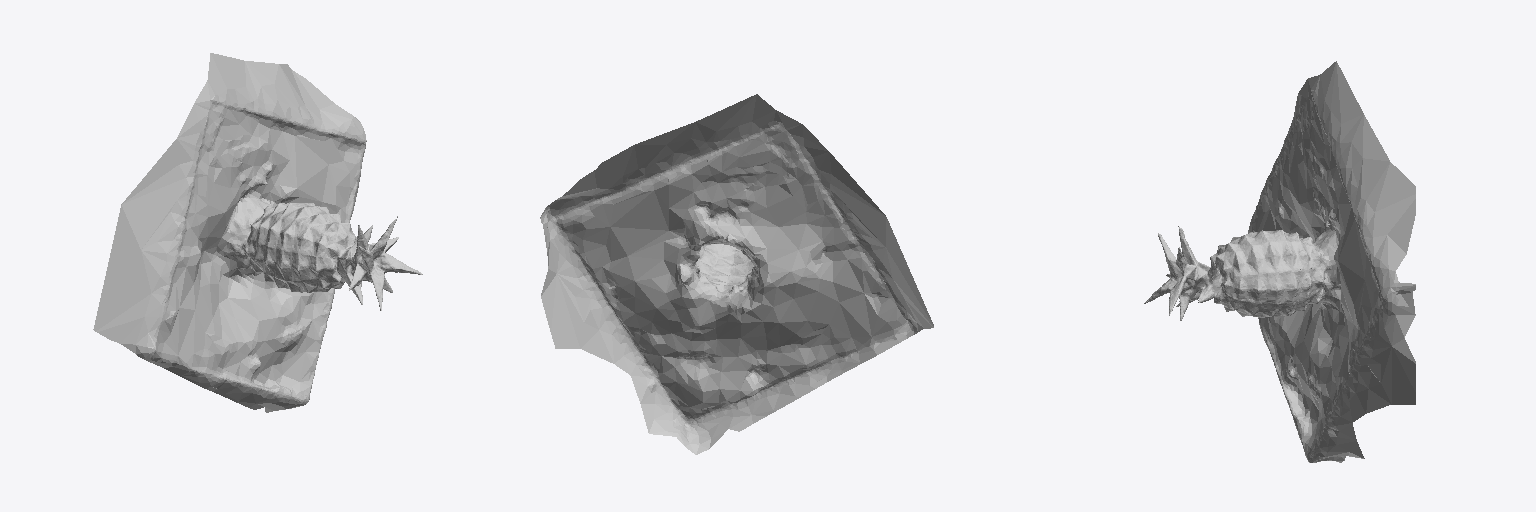
Rendered from pineapple.obj.
3 renders of one model, left to right at view 1: azimuth 30°, elevation 25°; view 2: azimuth 150°, elevation 25°; view 3: azimuth 270°, elevation 25°, orthographic.
Parts seen in each view (by area): view 1: pineapple; view 2: pineapple; view 3: pineapple.
Boxes of the visible parts, <box> form: pineapple: <box>93,53,422,412</box>; pineapple: <box>540,94,933,454</box>; pineapple: <box>1144,61,1415,462</box>.
Bounding box in the file's own units: 1.94 × 2.1 × 1.39.